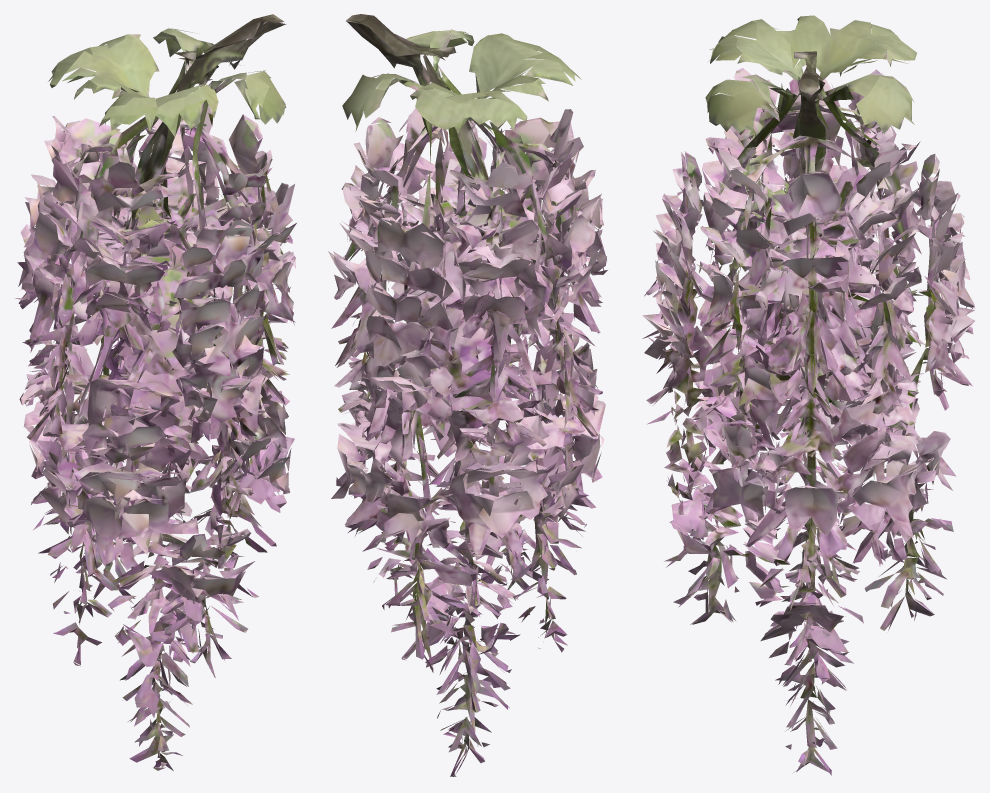
The model's file is wisteria-garden-cluster.glb.
3 renders of one model, left to right at view 1: azimuth 30°, elevation 25°; view 2: azimuth 150°, elevation 25°; view 3: azimuth 270°, elevation 25°, orthographic. The views are drawn at different scales.
Visible parts, largest first — view 1: wisteria-garden-cluster-0; view 2: wisteria-garden-cluster-0; view 3: wisteria-garden-cluster-0.
Part boxes in pixels (x1,y1,x2,y2): wisteria-garden-cluster-0: (14, 14, 296, 770); wisteria-garden-cluster-0: (328, 14, 607, 776); wisteria-garden-cluster-0: (642, 15, 975, 775).
Bounding box in the file's own units: 0.805 × 2.22 × 0.9065.
Materials: 1 (1 with a texture image).
